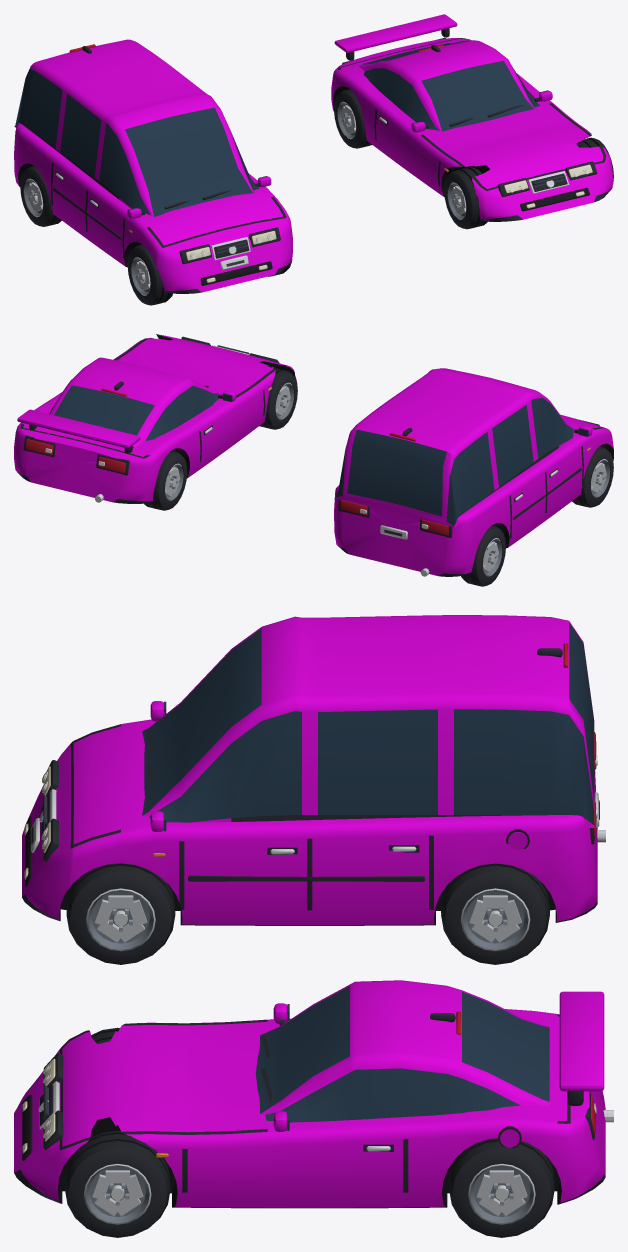
File: cars-family.glb
The picture shows the model from 3 angles, top to bottom: view 1: azimuth 30°, elevation 25°; view 2: azimuth 150°, elevation 25°; view 3: azimuth 270°, elevation 25°; orthographic projection. The views are drawn at different scales.
Visible parts, largest first — view 1: minivan_mesh, sports_mesh, sports, minivan; view 2: minivan_mesh, sports_mesh, minivan, sports; view 3: minivan_mesh, sports_mesh, minivan, sports.
Part boxes in pixels (box(x1,y1,x2,y2)): minivan_mesh: box(14, 39, 292, 293); sports_mesh: box(331, 14, 613, 221); sports: box(334, 89, 613, 229); minivan: box(20, 166, 291, 305); minivan_mesh: box(334, 368, 613, 576); sports_mesh: box(14, 334, 296, 503); minivan: box(461, 446, 613, 586); sports: box(144, 337, 297, 510); minivan_mesh: box(22, 615, 605, 925); sports_mesh: box(14, 980, 613, 1208); minivan: box(66, 863, 549, 964); sports: box(65, 1027, 554, 1237).
Size of the model in its own units: 5.81 by 1.8 by 3.75.
